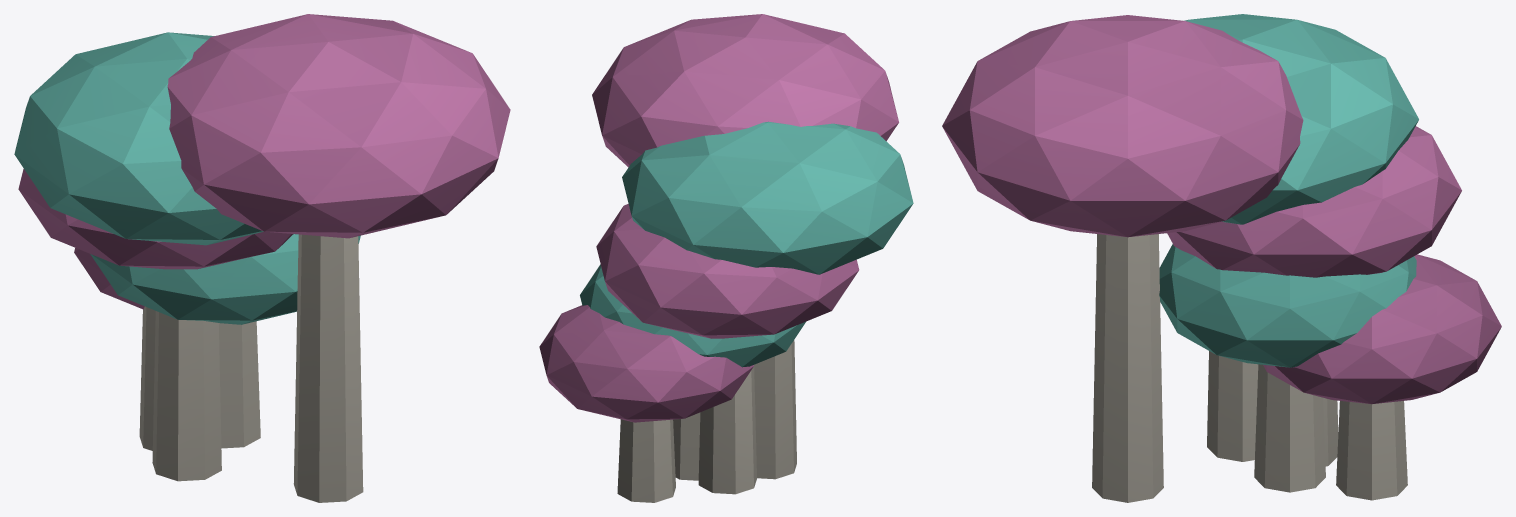
The model's file is mushrooms.glb.
3 views of the same model, side by side, from view 1: azimuth 30°, elevation 25°; view 2: azimuth 150°, elevation 25°; view 3: azimuth 270°, elevation 25° (orthographic). The views are drawn at different scales.
Parts seen in each view (by area): view 1: mushrooms; view 2: mushrooms; view 3: mushrooms.
Part boxes in pixels (x1,y1,x2,y2): mushrooms: (14,14,510,502); mushrooms: (539,14,913,502); mushrooms: (942,14,1501,502).
Bounding box in the file's own units: 0.3073 × 0.3426 × 0.3899.
